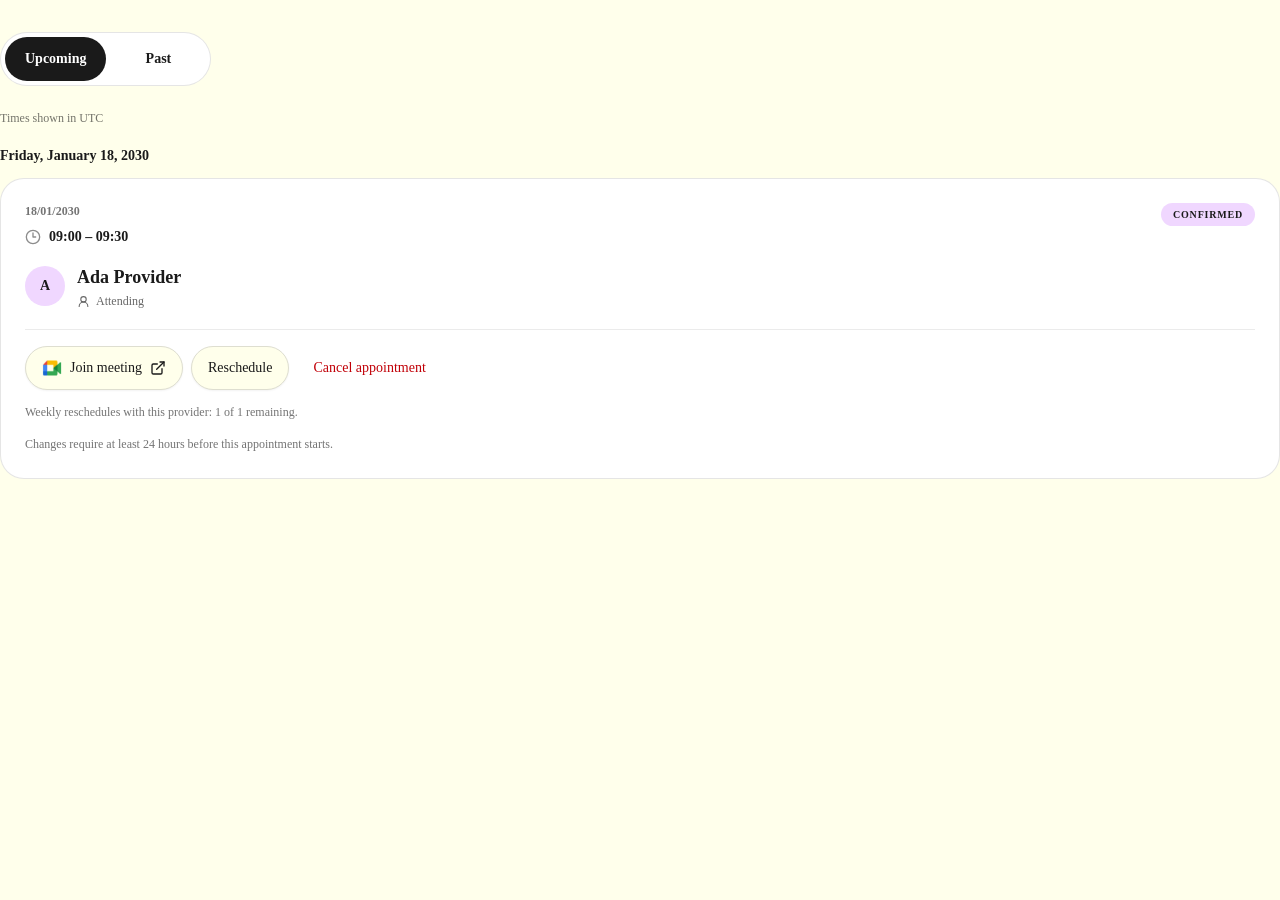
Scenario: appointment agenda › submits cancellation for the original occurrence and reloads after success
Click the button "Cancel appointment" at (370,368), box [298, 346, 442, 390]
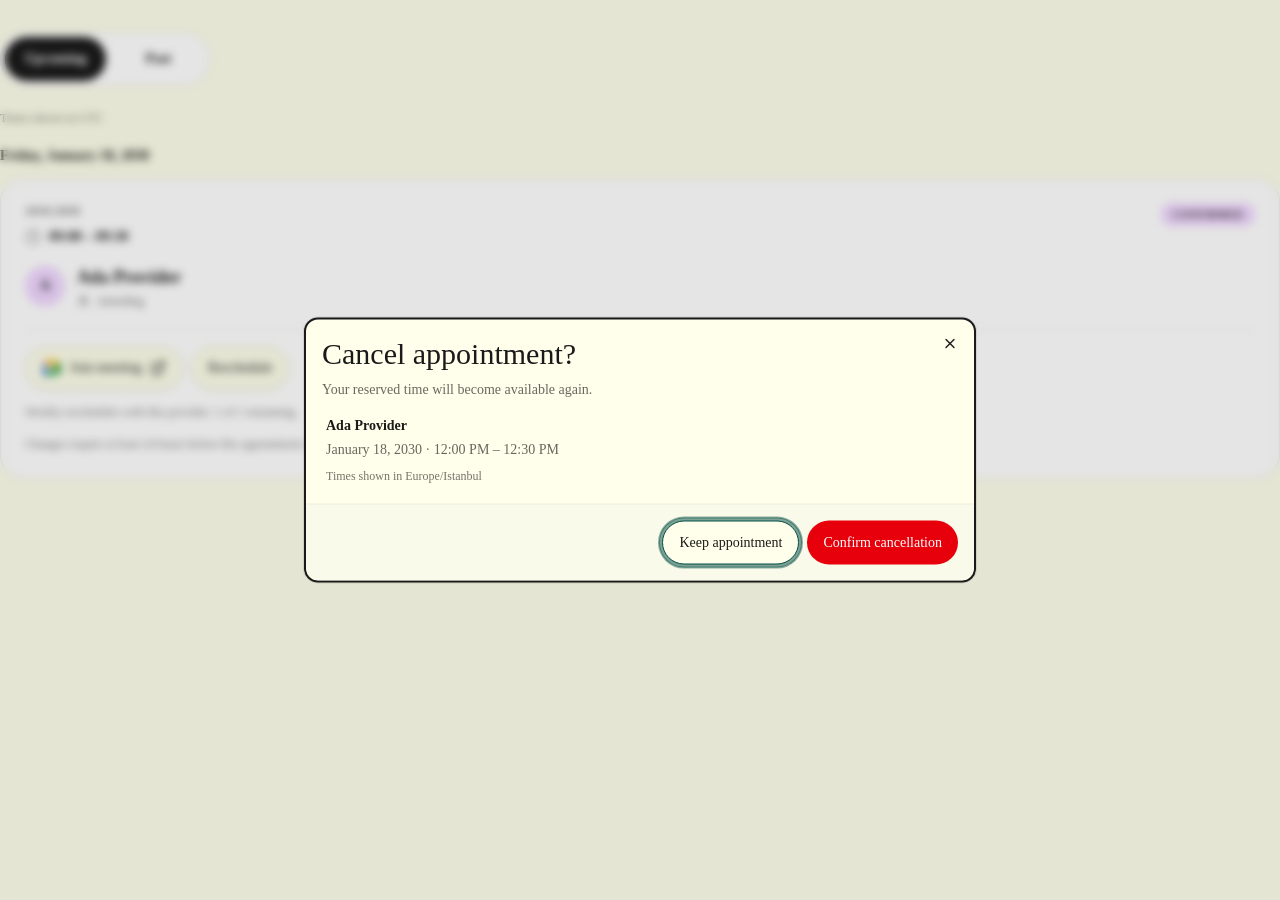
Click the button "Confirm cancellation" at (883,542), box [807, 520, 958, 564]
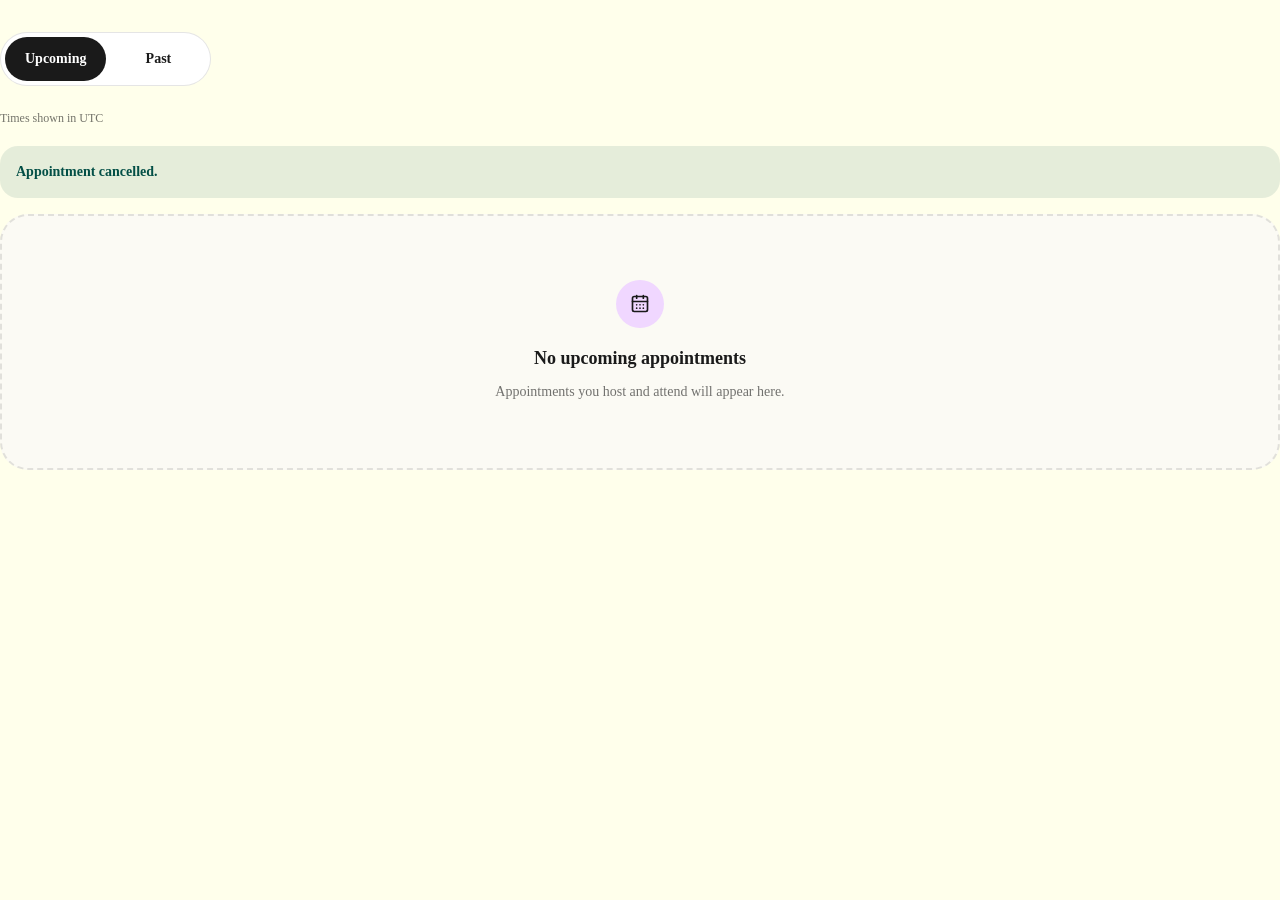
Check: the text "Appointment cancelled." is shown, box [0, 146, 1279, 198]
Check: the heading "No upcoming appointments" is shown, box [534, 348, 746, 368]
